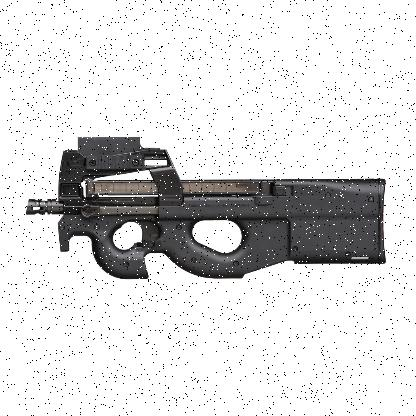gun: (26, 136, 385, 278)
